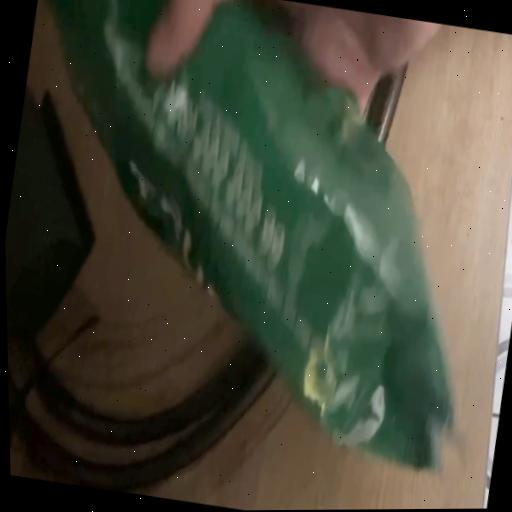cafe_xay: (50, 0, 453, 469)
